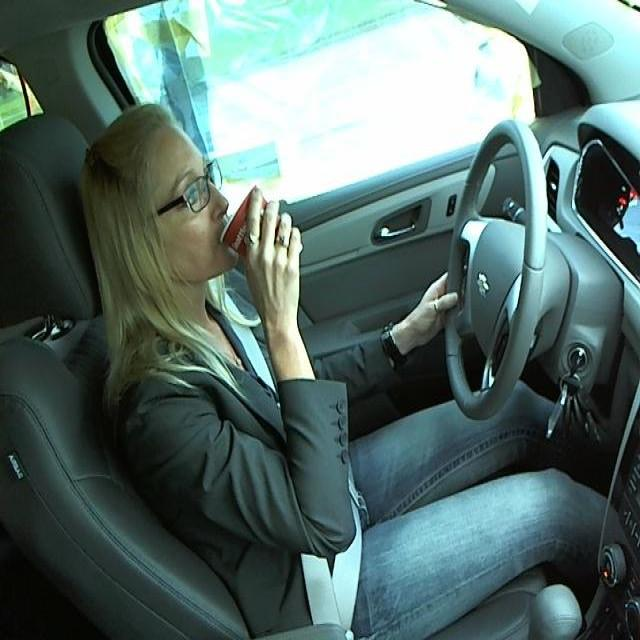drinking: (221, 179, 305, 275)
